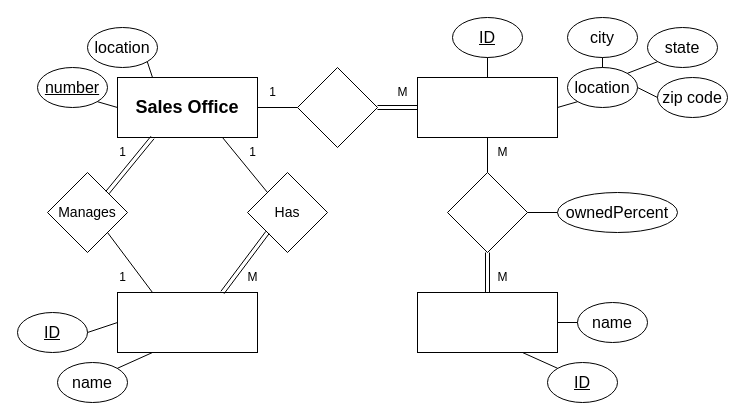
The diagram is 745 pixels wide and 420 high, and some of its shapes have lost their labels. Here are the shapes that lost their labels. From the top down, the centre of each, then its label:
the point at 337,107: Lists
the point at 487,107: Property
the point at 487,212: Owns
the point at 187,322: Employee
the point at 487,322: Owner
